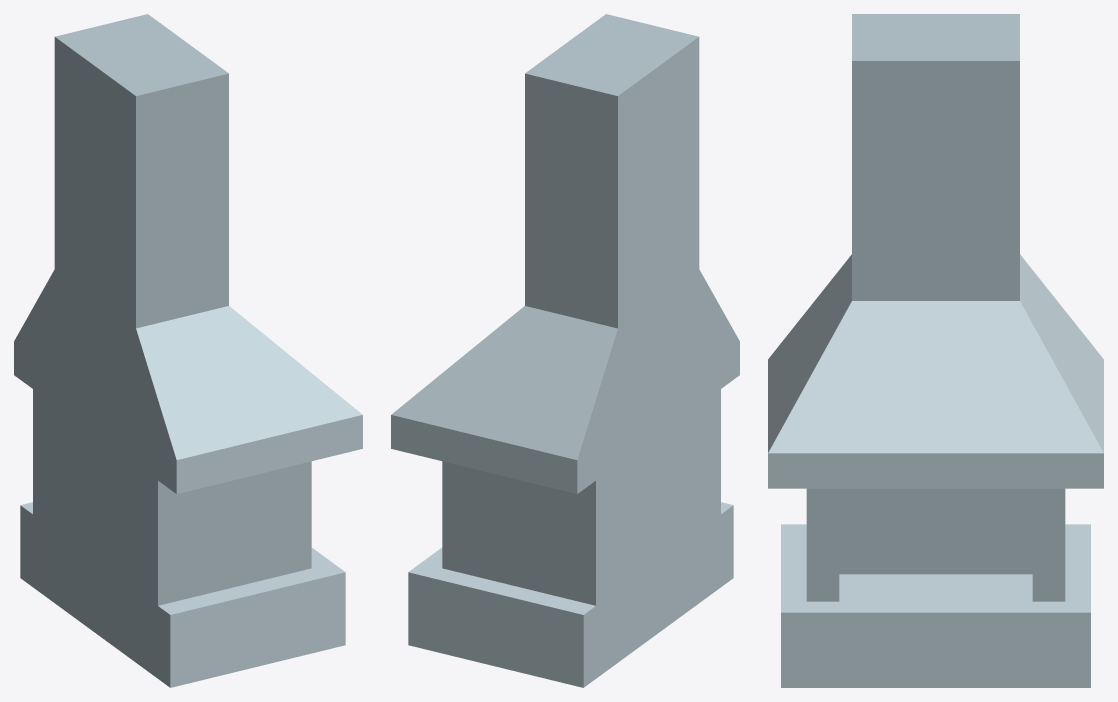
The model's file is chimneyBase.glb.
3 views of the same model, side by side, from view 1: azimuth 30°, elevation 25°; view 2: azimuth 150°, elevation 25°; view 3: azimuth 270°, elevation 25° (orthographic). The views are drawn at different scales.
Visible parts, largest first — view 1: chimneyBase; view 2: chimneyBase; view 3: chimneyBase.
Boxes of the visible parts, x1,y1,x2,y2 form: chimneyBase: (14, 14, 362, 687); chimneyBase: (391, 14, 739, 687); chimneyBase: (768, 14, 1103, 687).
Bounding box in the file's own units: 0.3438 × 1 × 0.52.
